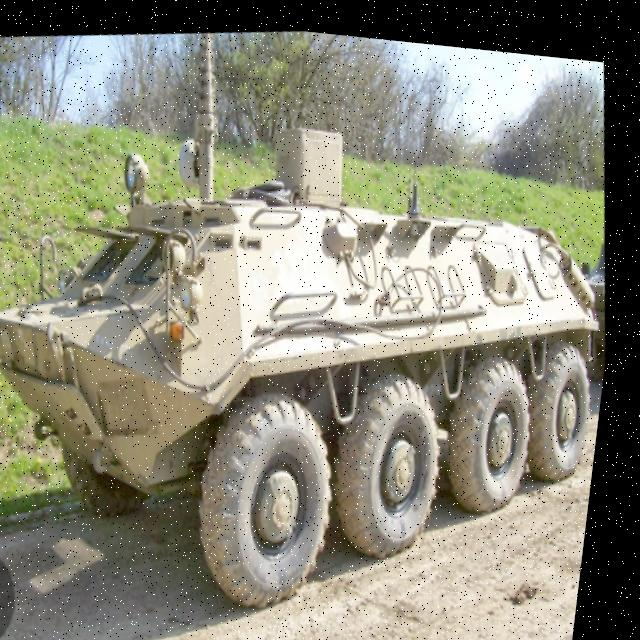MIL_APC: (0, 67, 634, 630)
